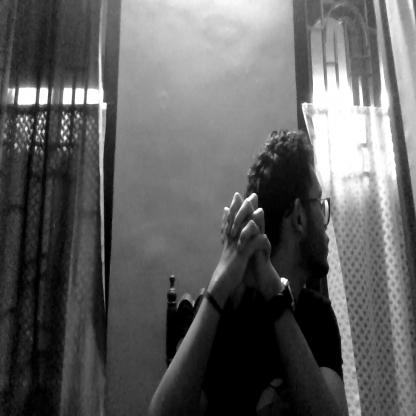Distracted: (254, 129, 336, 290)
